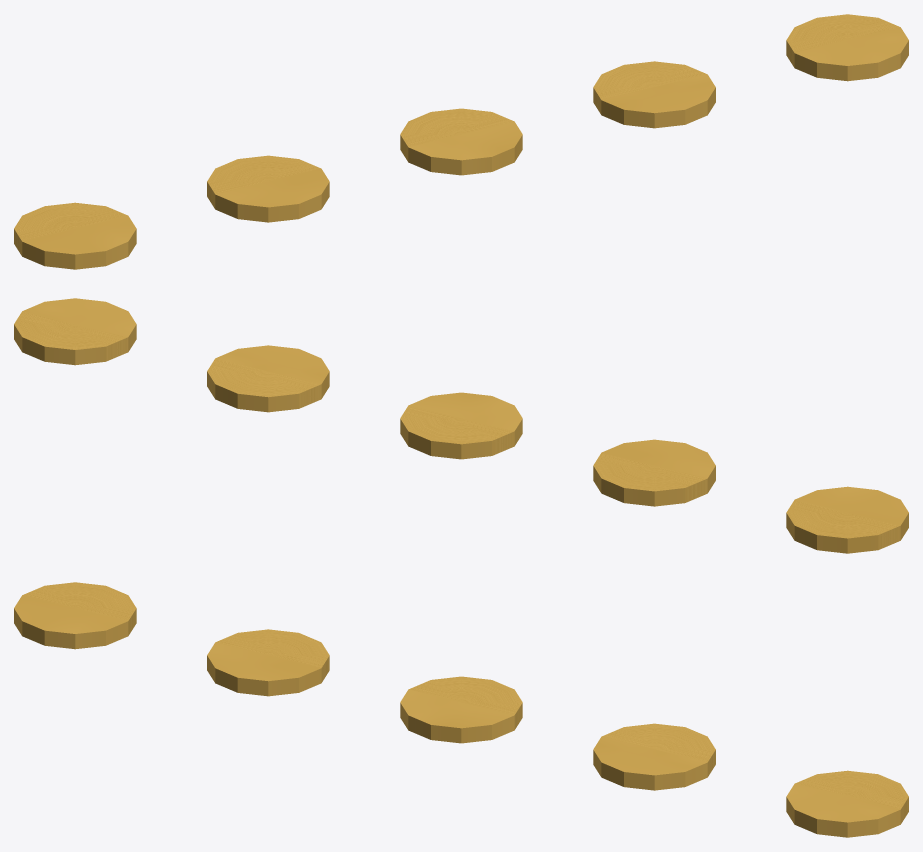
The model's file is 381_L124_TP1_SpacecraftDiagnosticPads.obj.
3 views of the same model, one above another, from view 1: azimuth 30°, elevation 25°; view 2: azimuth 150°, elevation 25°; view 3: azimuth 330°, elevation 25° (orthographic).
Visible parts, largest first — view 1: 381_L124_TP1_SpacecraftDiagnosticPads__PSMAT__gold; view 2: 381_L124_TP1_SpacecraftDiagnosticPads__PSMAT__gold; view 3: 381_L124_TP1_SpacecraftDiagnosticPads__PSMAT__gold.
Part boxes in pixels (<box>): 381_L124_TP1_SpacecraftDiagnosticPads__PSMAT__gold: <box>14,14,908,269</box>; 381_L124_TP1_SpacecraftDiagnosticPads__PSMAT__gold: <box>14,298,908,553</box>; 381_L124_TP1_SpacecraftDiagnosticPads__PSMAT__gold: <box>14,582,908,837</box>.
Size of the model in its own units: 0.0182 by 0.0003 by 0.0022.
Materials: 1 (1 with a texture image).
